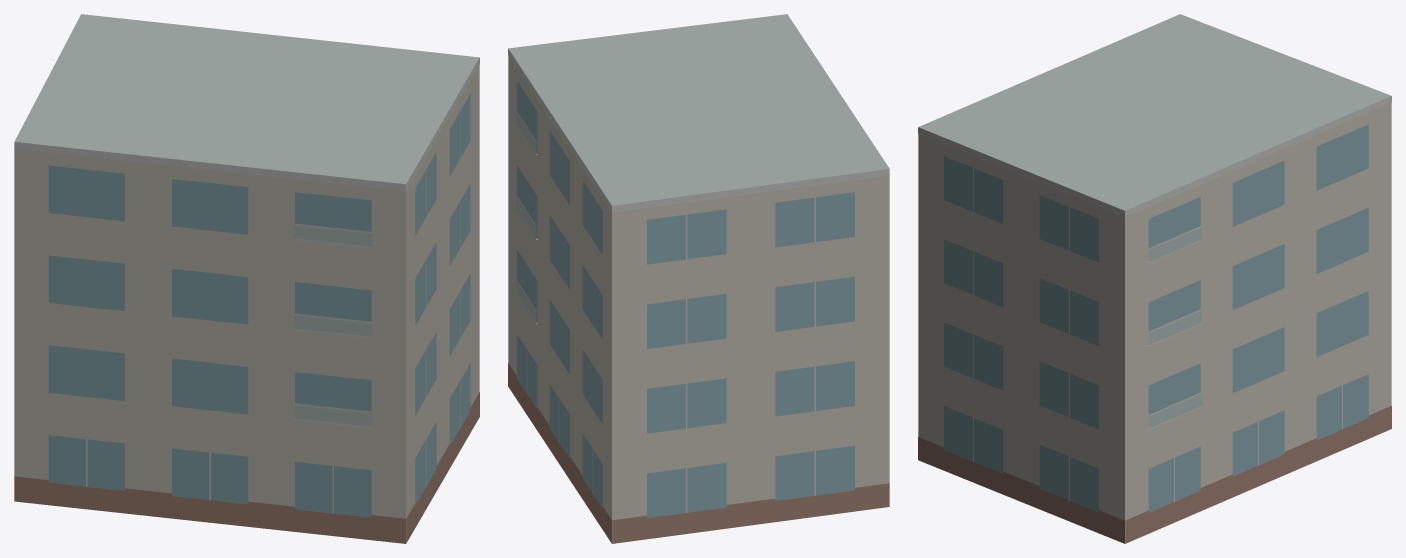
The model's file is survey-upis-32497748.glb.
3 views of the same model, side by side, from view 1: azimuth 30°, elevation 25°; view 2: azimuth 150°, elevation 25°; view 3: azimuth 270°, elevation 25° (orthographic). The views are drawn at different scales.
Visible parts, largest first — view 1: survey-upis-32497748.tmp; view 2: survey-upis-32497748.tmp; view 3: survey-upis-32497748.tmp.
Boxes of the visible parts, left/top/right/bottom form: survey-upis-32497748.tmp: left=14, top=14, right=479, bottom=543; survey-upis-32497748.tmp: left=508, top=14, right=889, bottom=543; survey-upis-32497748.tmp: left=918, top=14, right=1391, bottom=543.
Size of the model in its own units: 15.47 by 12.2 by 15.73.
